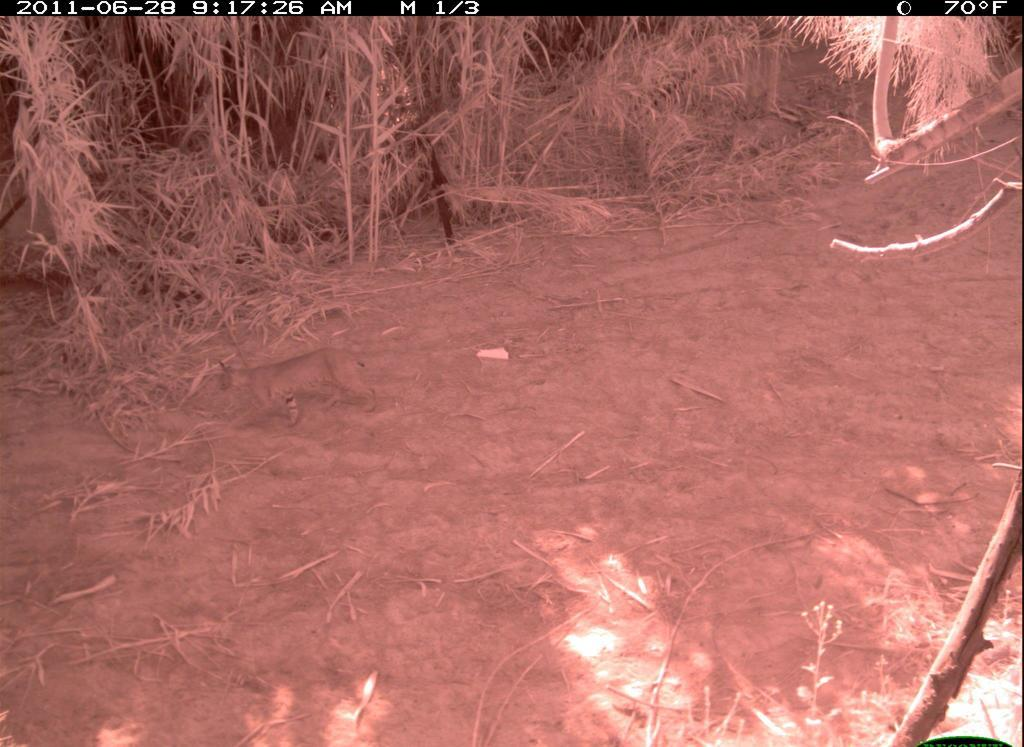bobcat: (205, 342, 390, 440)
